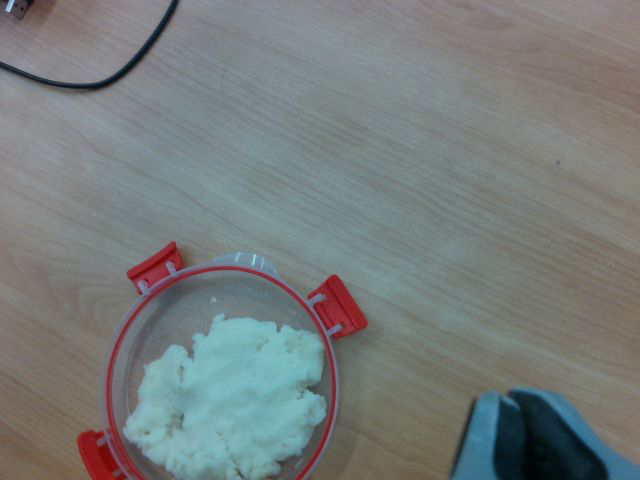mashed_potato: (127, 319, 326, 477)
